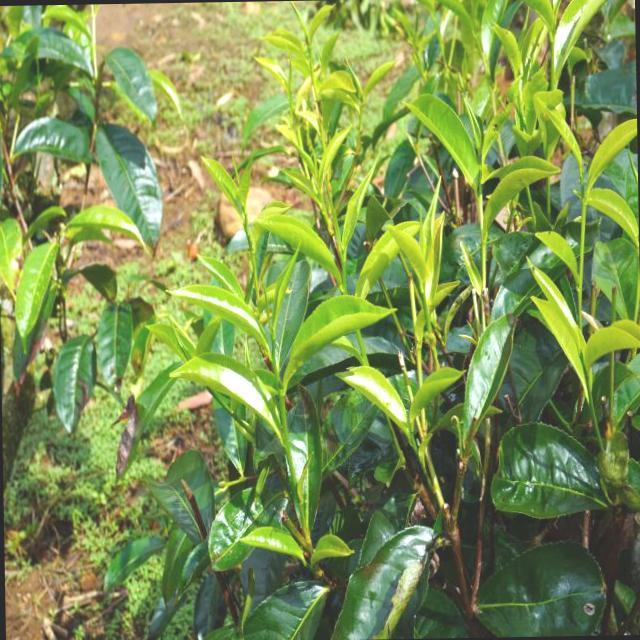Stem: (278, 396, 285, 418), (581, 201, 587, 223), (244, 224, 252, 239), (478, 198, 482, 212)
